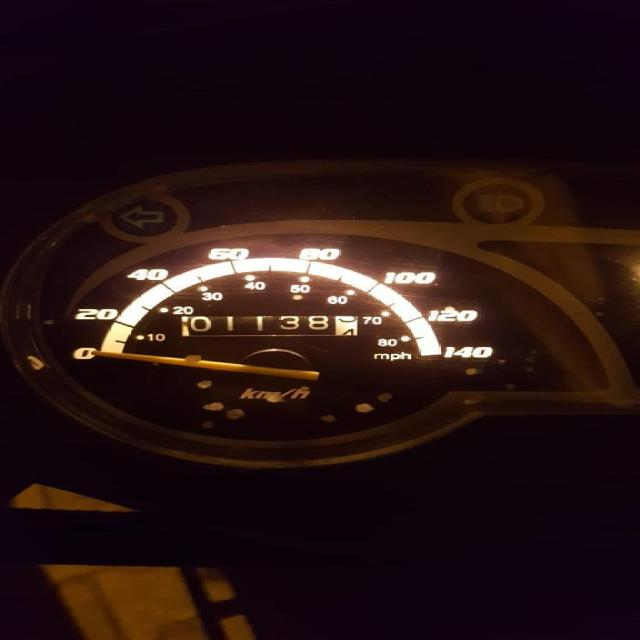odometer: (174, 312, 362, 338)
